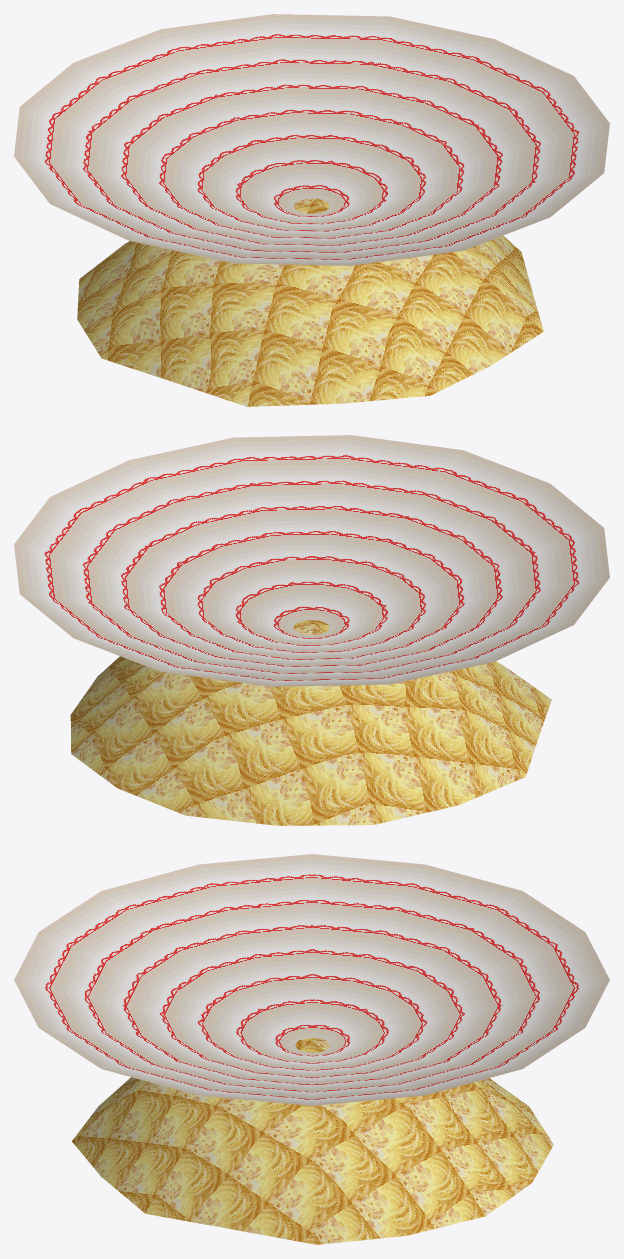
Rendered from pasta.gltf.
3 views of the same model, one above another, from view 1: azimuth 30°, elevation 25°; view 2: azimuth 150°, elevation 25°; view 3: azimuth 270°, elevation 25° (orthographic).
Parts seen in each view (by area): view 1: pasta; view 2: pasta; view 3: pasta.
Part boxes in pixels (x1,y1,x2,y2): pasta: [14, 14, 609, 406]; pasta: [14, 435, 609, 825]; pasta: [14, 854, 609, 1244].
Bounding box in the file's own units: 0.8994 × 0.2715 × 0.8994.
3 materials, 3 textured.
